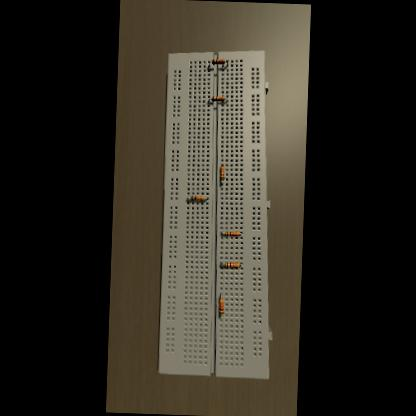breadboard: (157, 46, 282, 379)
resistor: (219, 298, 224, 314), (212, 58, 224, 64), (219, 166, 224, 180), (212, 96, 224, 101), (225, 231, 239, 235), (225, 262, 239, 266), (190, 196, 204, 199)
wire: (208, 60, 212, 66), (208, 99, 212, 102), (220, 292, 222, 298), (225, 60, 227, 65), (225, 98, 227, 101), (221, 262, 224, 264), (220, 231, 224, 232), (239, 262, 241, 264), (188, 197, 190, 198), (239, 232, 241, 233), (204, 198, 207, 198)
